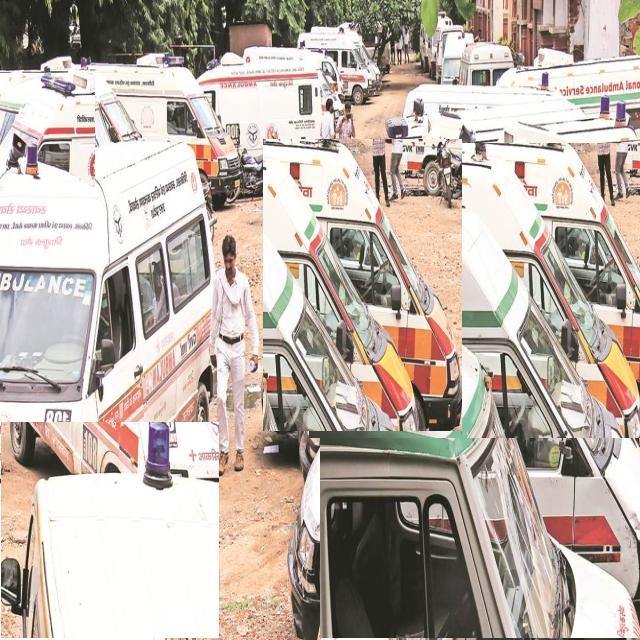emergency: (288, 207, 640, 636), (320, 288, 639, 638), (309, 144, 640, 438), (0, 142, 215, 478), (263, 139, 461, 431), (0, 423, 219, 638), (88, 54, 239, 205), (199, 63, 332, 193), (0, 74, 95, 187), (50, 56, 141, 142), (54, 79, 111, 150)
